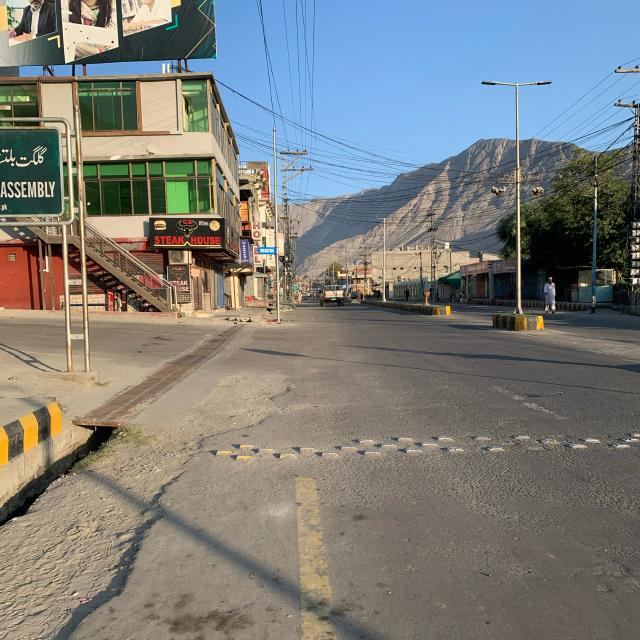Left-Turn: (61, 325, 333, 431)
straight: (303, 289, 610, 494)
